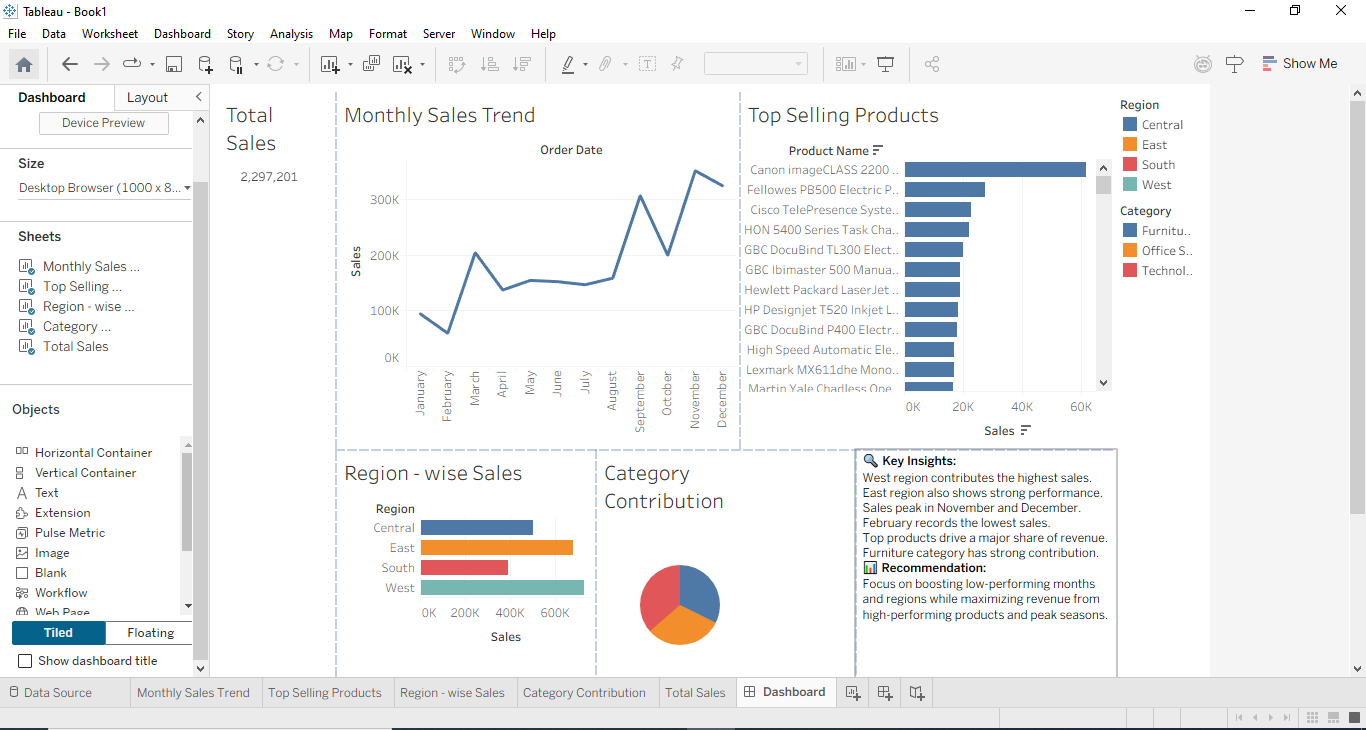

The dashboard page shown, as its layout file describes it:
{"tool":"tableau","page":{"name":"Sale Dashboard ","canvas":[1000,800],"ordinal":0},"visuals":[{"type":"worksheet","title":"Monthly Sales Trend","mark":"Automatic","rows":["Sales"],"cols":["Order Date"],"box":[8,8,850,196]},{"type":"legend","title":"Category Contribution","param":"[federated.0vu01k50sn6uhi18zckni1epqkjt].[none:Category:nk]","box":[858,8,134,101]},{"type":"text","box":[858,109,134,452]},{"type":"worksheet","title":"Category Contribution","mark":"Pie","box":[8,204,212.5,226]},{"type":"worksheet","title":"Region - Wise Sales","mark":"Automatic","rows":["Region"],"cols":["Sales"],"box":[220.5,204,212.5,226]},{"type":"worksheet","title":"Top Selling Product","mark":"Automatic","rows":["Sales"],"cols":["Product Name"],"box":[433,204,425,226]},{"type":"worksheet","title":"Total Sale","mark":"Automatic","box":[8,430,850,362]}]}

Visuals, with their boxes on the page's 1000x800 design canvas (x1, y1, x2, y2). These are canvas units, not pixel positions in the 1366x730 screenshot, which may show the page scaled, cropped or inside an application window:
"Monthly Sales Trend" worksheet: (x1=8, y1=8, x2=858, y2=204)
"Category Contribution" legend: (x1=858, y1=8, x2=992, y2=109)
text: (x1=858, y1=109, x2=992, y2=561)
"Category Contribution" worksheet (Pie marks): (x1=8, y1=204, x2=220, y2=430)
"Region - Wise Sales" worksheet: (x1=220, y1=204, x2=433, y2=430)
"Top Selling Product" worksheet: (x1=433, y1=204, x2=858, y2=430)
"Total Sale" worksheet: (x1=8, y1=430, x2=858, y2=792)
